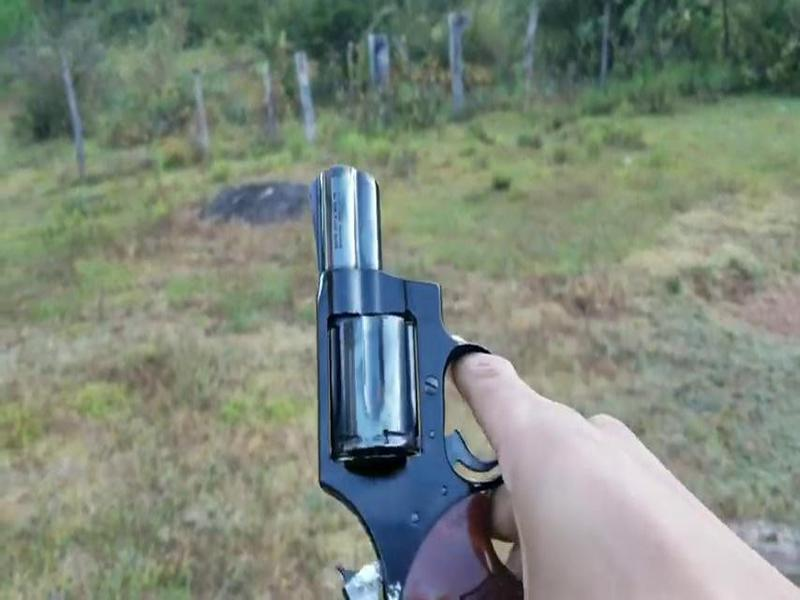Revolver: (295, 139, 523, 600)
